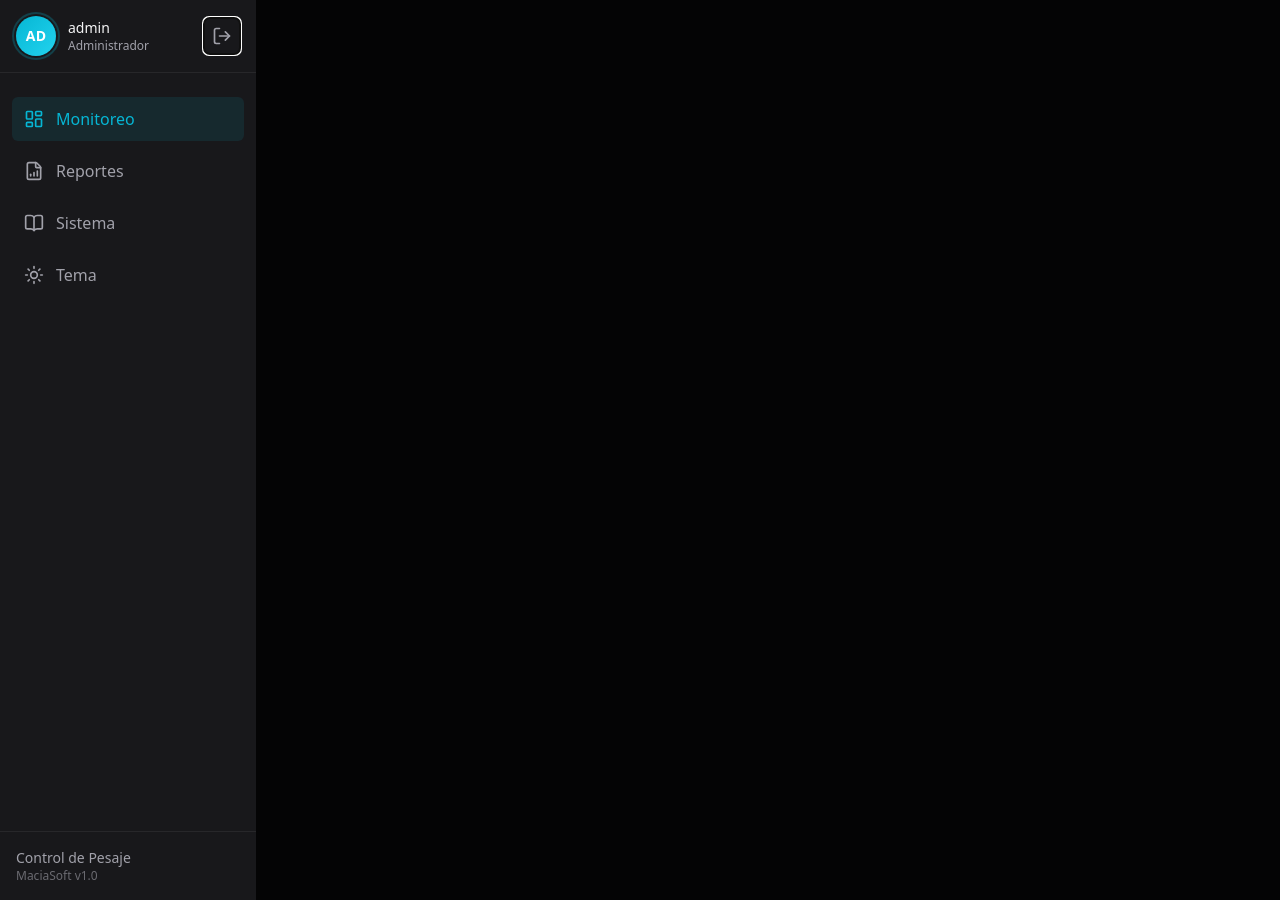
DashboardLayout — visibilidad del menú por rol › abre y cierra el sidebar móvil usando el menú hamburguesa
Earlier steps of the test are not shown.
Expected: the dialog is shown, [0,0,256,899]
Click the link "Monitoreo" at (128, 119), box [12,97,244,141]
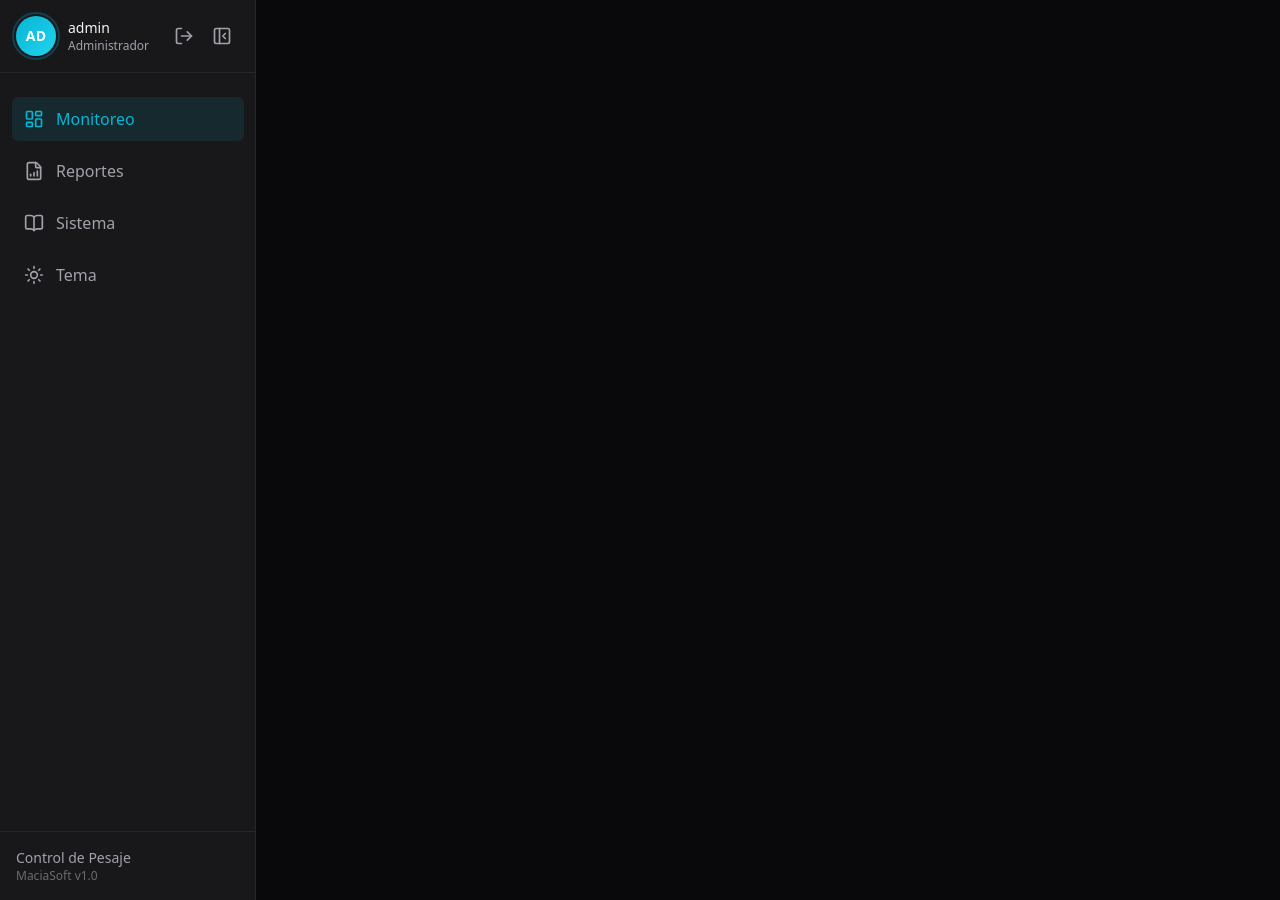
Expected: the dialog is gone
